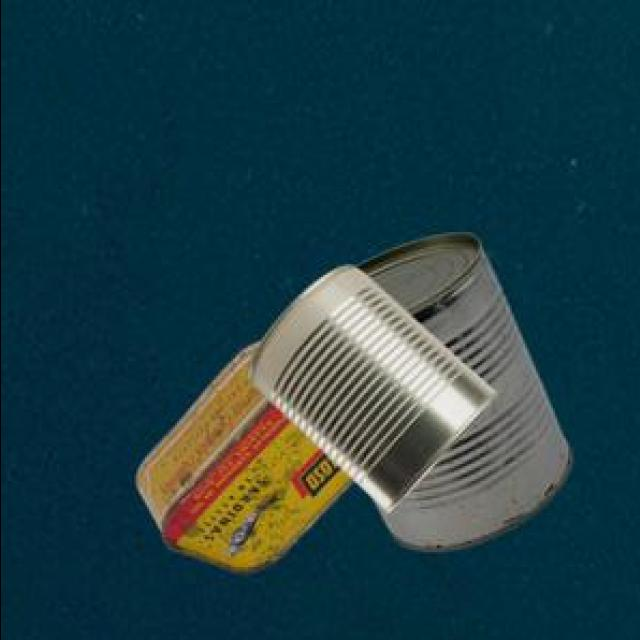logam: (358, 231, 574, 549), (250, 263, 499, 510), (139, 338, 355, 570)
